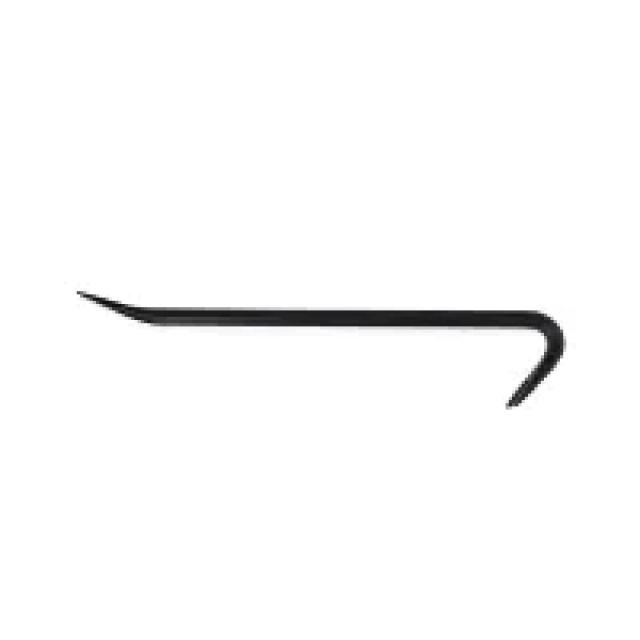Linggis: (64, 274, 576, 429)
